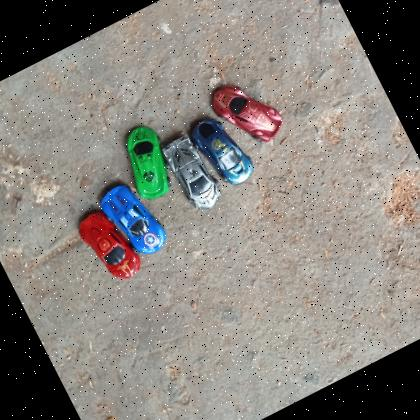Car: (206, 68, 291, 159), (95, 175, 173, 266), (72, 202, 147, 290), (111, 119, 185, 206), (186, 107, 260, 194), (158, 129, 227, 217)
